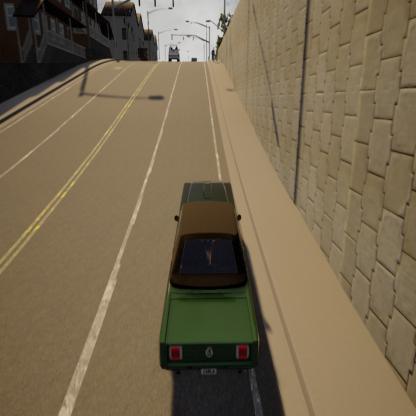Cars: (150, 170, 264, 386), (164, 40, 183, 66)
